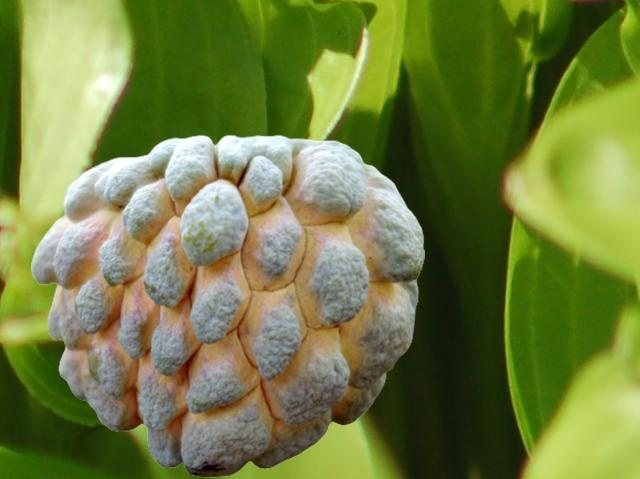atis: (31, 134, 423, 476)
